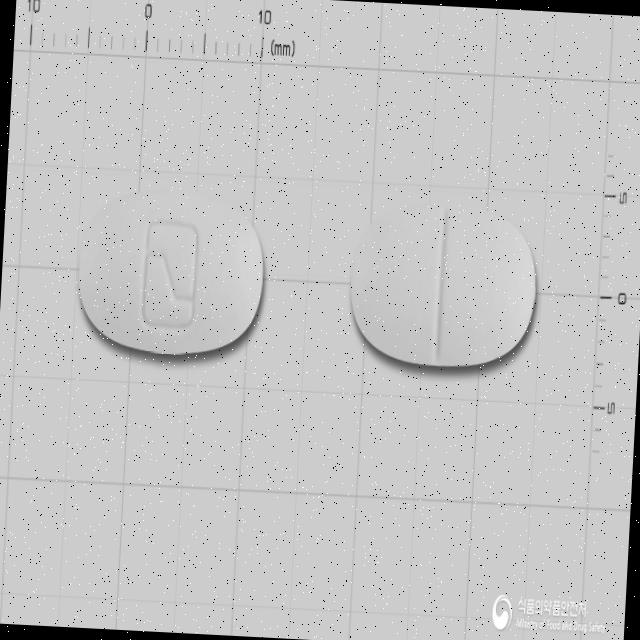Claroma Tab-500mg: (74, 179, 270, 363)
